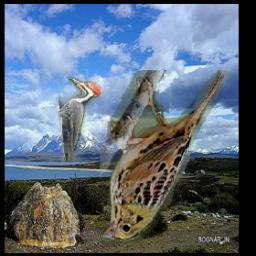Sparrow: (101, 71, 231, 245)
Woodpecker: (59, 78, 101, 163)
